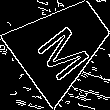M_NE: (30, 11, 95, 78)
